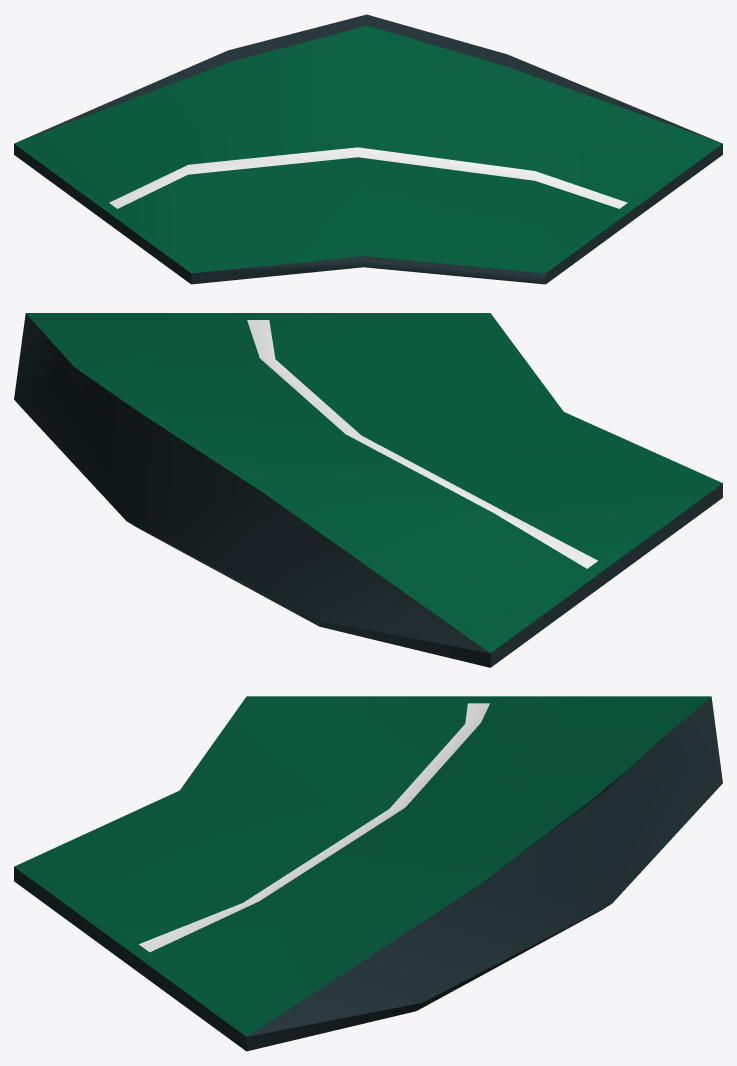
Rendered from right4.fbx.
The picture shows the model from 3 angles, top to bottom: view 1: azimuth 30°, elevation 25°; view 2: azimuth 150°, elevation 25°; view 3: azimuth 270°, elevation 25°; orthographic projection. The views are drawn at different scales.
Visible parts, largest first — view 1: right4; view 2: right4; view 3: right4.
Boxes of the visible parts, box(x1,y1,x2,y2) form: right4: box(14, 14, 722, 284); right4: box(14, 313, 722, 667); right4: box(14, 696, 722, 1051).
Size of the model in its own units: 50.01 by 8.36 by 44.02.
1 material, 1 textured.
